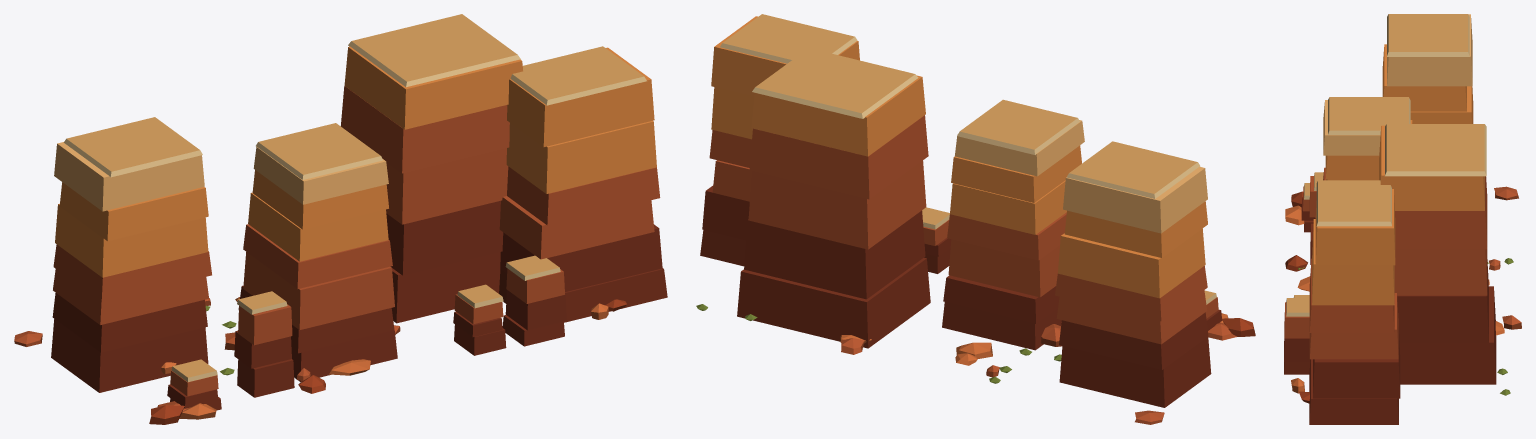
The model's file is W5_Mid_Mesas.fbx.
3 renders of one model, left to right at view 1: azimuth 30°, elevation 25°; view 2: azimuth 150°, elevation 25°; view 3: azimuth 270°, elevation 25°, orthographic. The views are drawn at different scales.
Visible parts, largest first — view 1: W5_Mid_Mesas; view 2: W5_Mid_Mesas; view 3: W5_Mid_Mesas.
Part boxes in pixels (x1,y1,x2,y2): W5_Mid_Mesas: (14, 14, 667, 424); W5_Mid_Mesas: (696, 14, 1255, 424); W5_Mid_Mesas: (1284, 14, 1521, 424).
Size of the model in its own units: 149 by 62.12 by 64.38.
